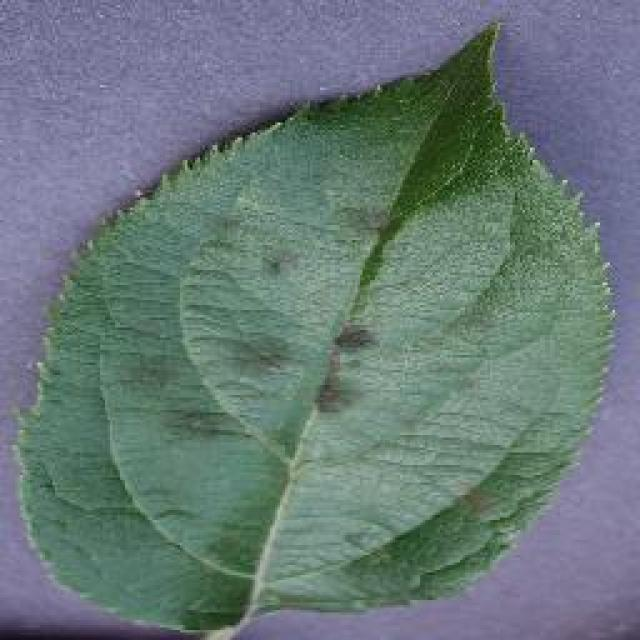apple scab disease: (10, 15, 618, 637)
